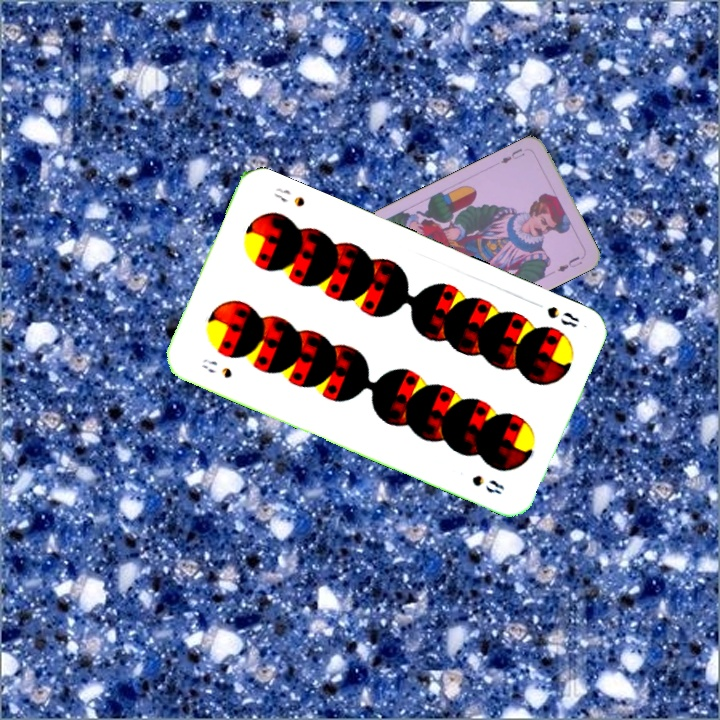EU: (496, 144, 527, 166)
S8: (543, 302, 581, 331), (198, 354, 235, 381)
